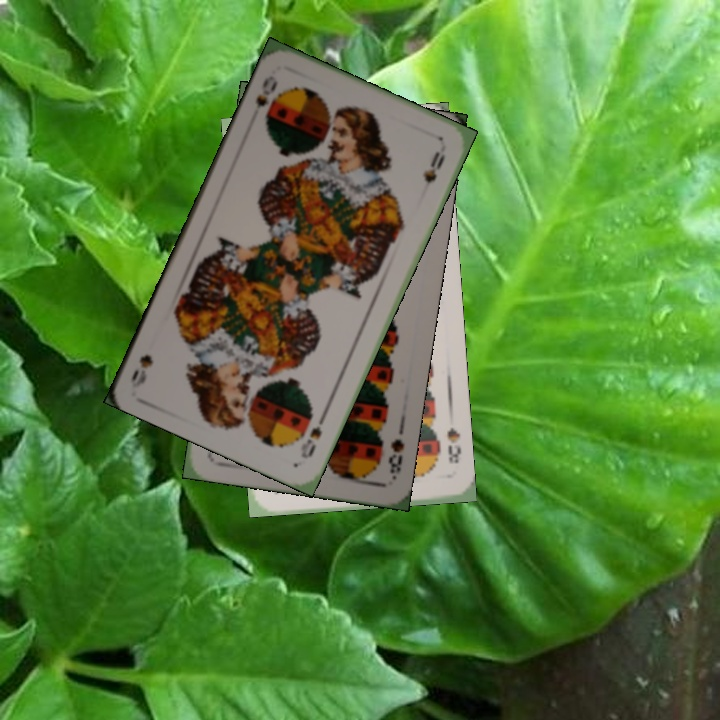S8: (384, 435, 407, 482), (442, 423, 464, 467)
SO: (247, 71, 282, 127), (296, 408, 329, 462)
